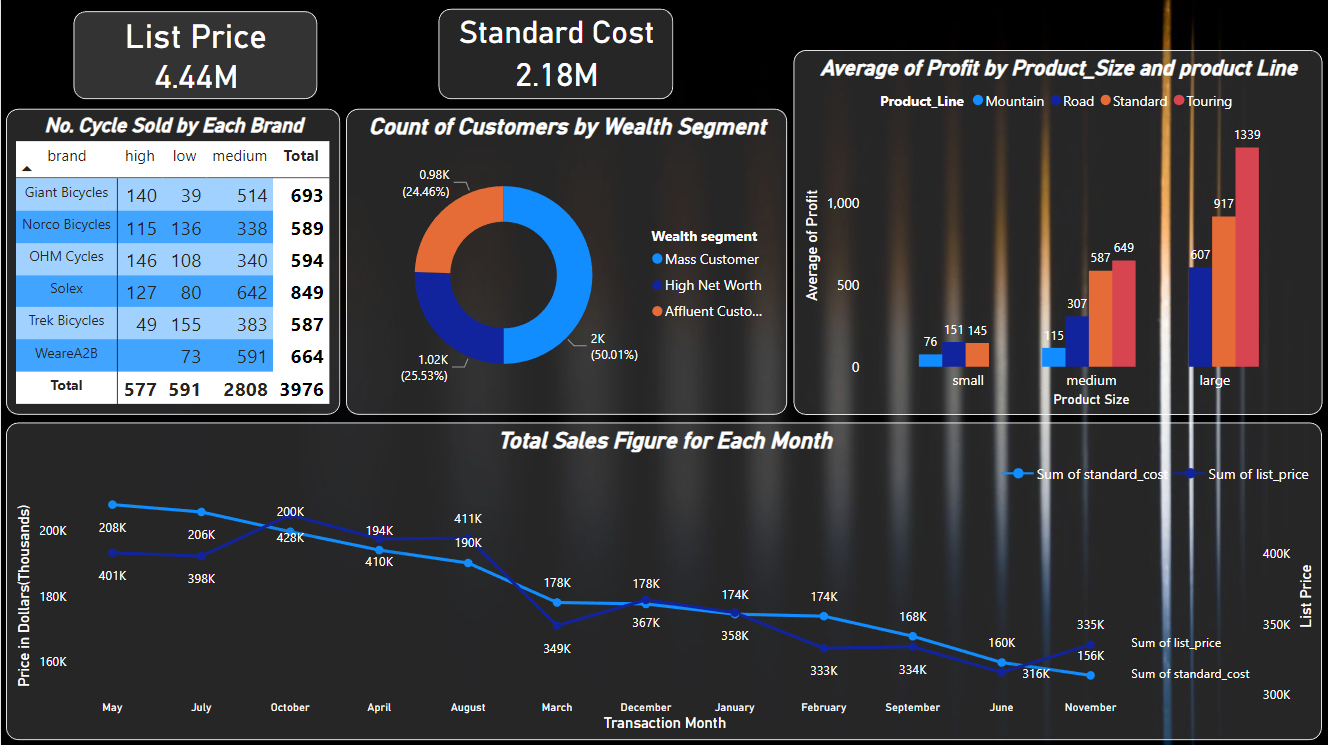

This screenshot's page, from the dashboard's own definition file:
{"tool":"powerbi","page":{"name":"Sales Report 2","canvas":[1280,720],"ordinal":1},"visuals":[{"type":"lineChart","title":"Total Sales Figure for Each Month","fields":{"Category":["Combine.transaction_month"],"Y":["Sum(Combine.standard_cost)"],"Y2":["Sum(Combine.list_price)"]},"box":[4.8,407.6,1269.9,306.3],"z":0},{"type":"pivotTable","title":"No. Cycle Sold by Each Brand","fields":{"Rows":["Combine.brand"],"Columns":["Combine.product_class"],"Values":["CountNonNull(Combine.Column1)"]},"box":[4.8,104.9,322,295.5],"z":1000},{"type":"clusteredColumnChart","title":"Average of Profit by Product_Size and product Line","fields":{"Category":["Combine.product_size"],"Series":["Combine.product_line"],"Y":["Avg(Combine.Profit)"]},"box":[764.6,48.2,510.2,352.2],"z":2000},{"type":"card","title":"List Price","fields":{"Values":["Sum(Combine.list_price)"]},"box":[69.9,10.9,235.2,84.4],"z":3000},{"type":"card","title":"Standard Cost","fields":{"Values":["Sum(Combine.standard_cost)"]},"box":[422.1,8.4,226.7,86.8],"z":4000},{"type":"donutChart","title":"Count of Customers by Wealth Segment","fields":{"Y":["CountNonNull(Combine.Column1)"],"Category":["Combine.wealth_segment"]},"box":[332.9,104.9,425.7,295.5],"z":5000}]}

Visuals, with their boxes in screenshot pixels (x1, y1, x2, y2), scaled from the page's 1280x720 canvas onto the 1328x745 screenshot:
"Total Sales Figure for Each Month" lineChart: pyautogui.locateOnScreen(5, 422, 1323, 739)
"No. Cycle Sold by Each Brand" pivotTable: pyautogui.locateOnScreen(5, 109, 339, 414)
"Average of Profit by Product_Size and product Line" clusteredColumnChart: pyautogui.locateOnScreen(793, 50, 1323, 414)
"List Price" card: pyautogui.locateOnScreen(73, 11, 317, 99)
"Standard Cost" card: pyautogui.locateOnScreen(438, 9, 673, 99)
"Count of Customers by Wealth Segment" donutChart: pyautogui.locateOnScreen(345, 109, 787, 414)
